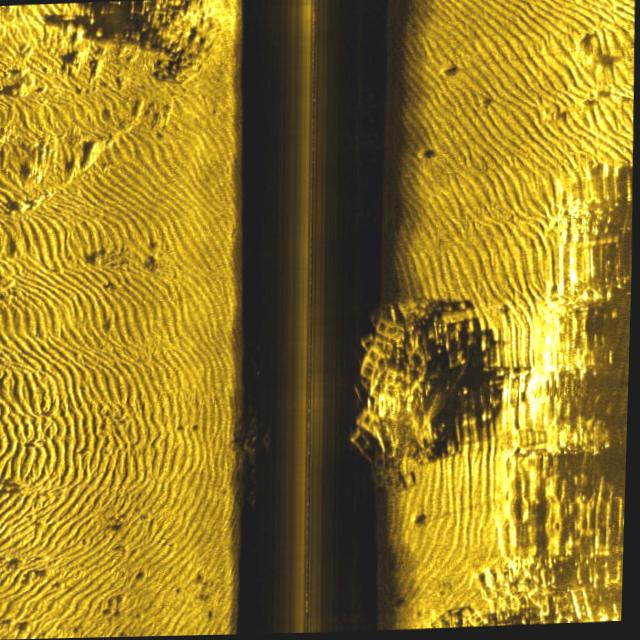artificial reef: (350, 314, 468, 501), (474, 552, 554, 617), (243, 402, 280, 521)
